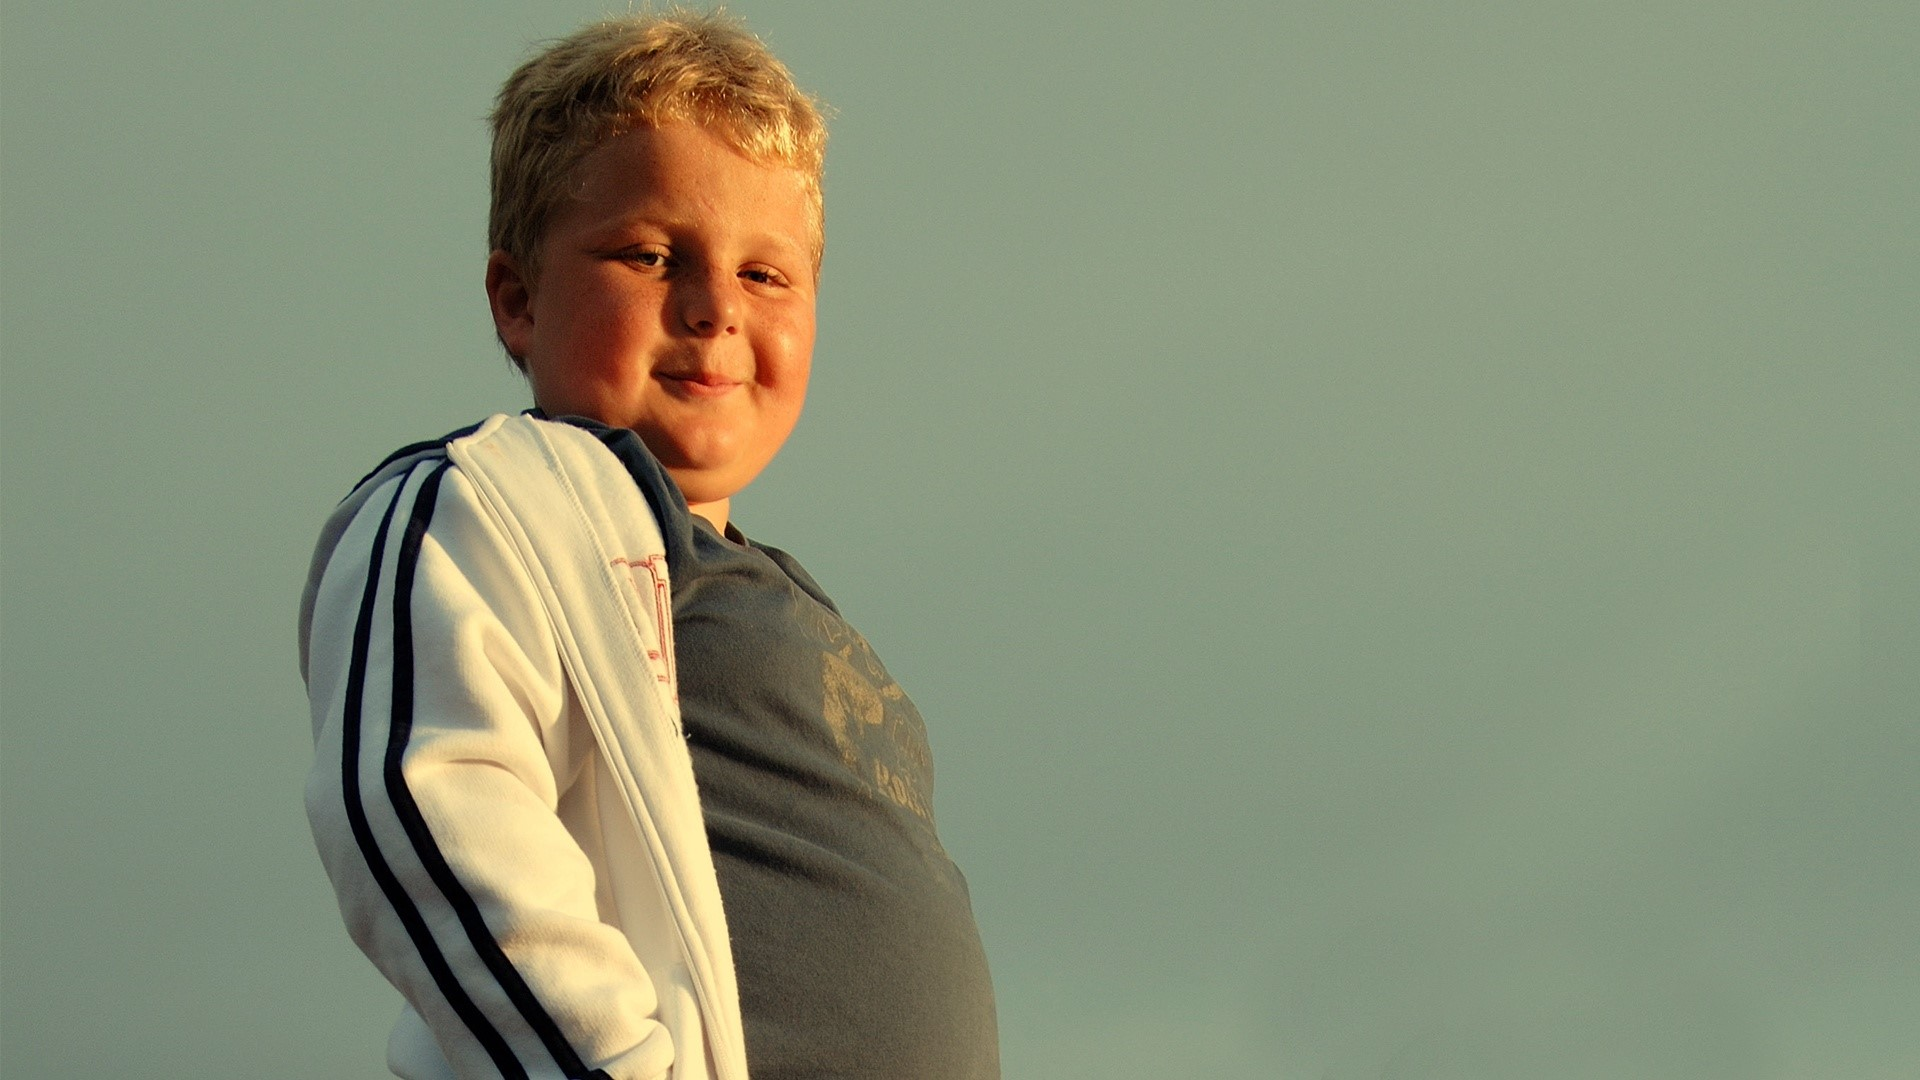face_no_mask: (480, 24, 823, 500)
